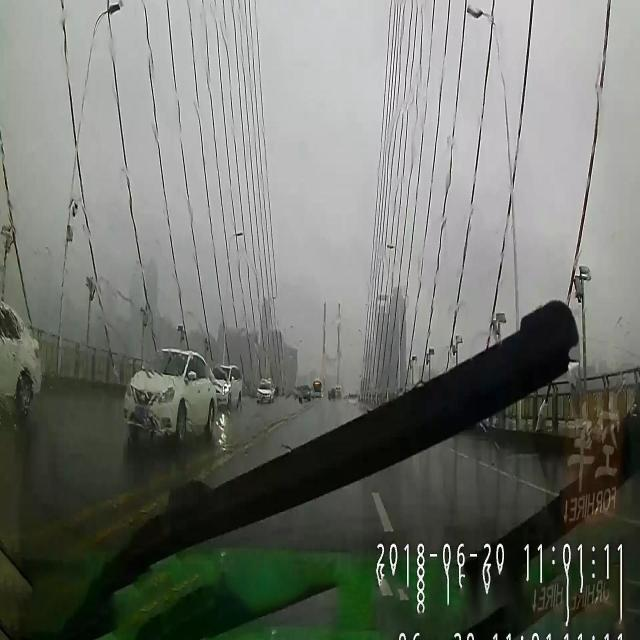car: (122, 348, 216, 441), (0, 299, 42, 412), (213, 363, 242, 408), (257, 381, 275, 404)
